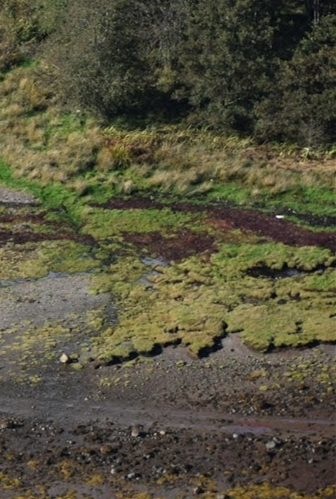white_in_green: (262, 200, 296, 233)
